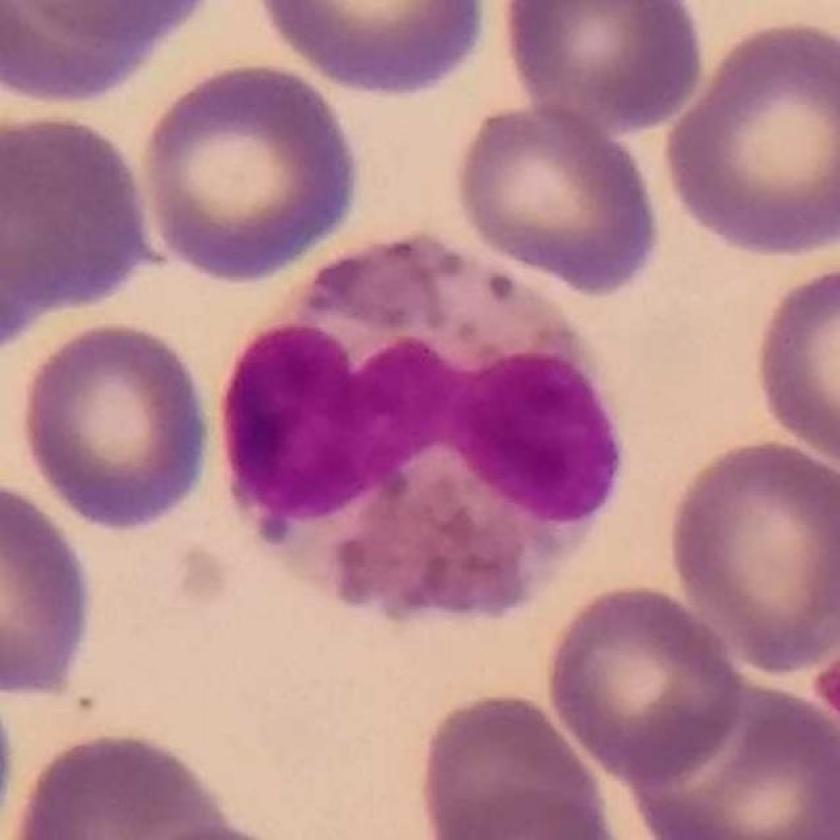eosinophil: (217, 227, 642, 638)
